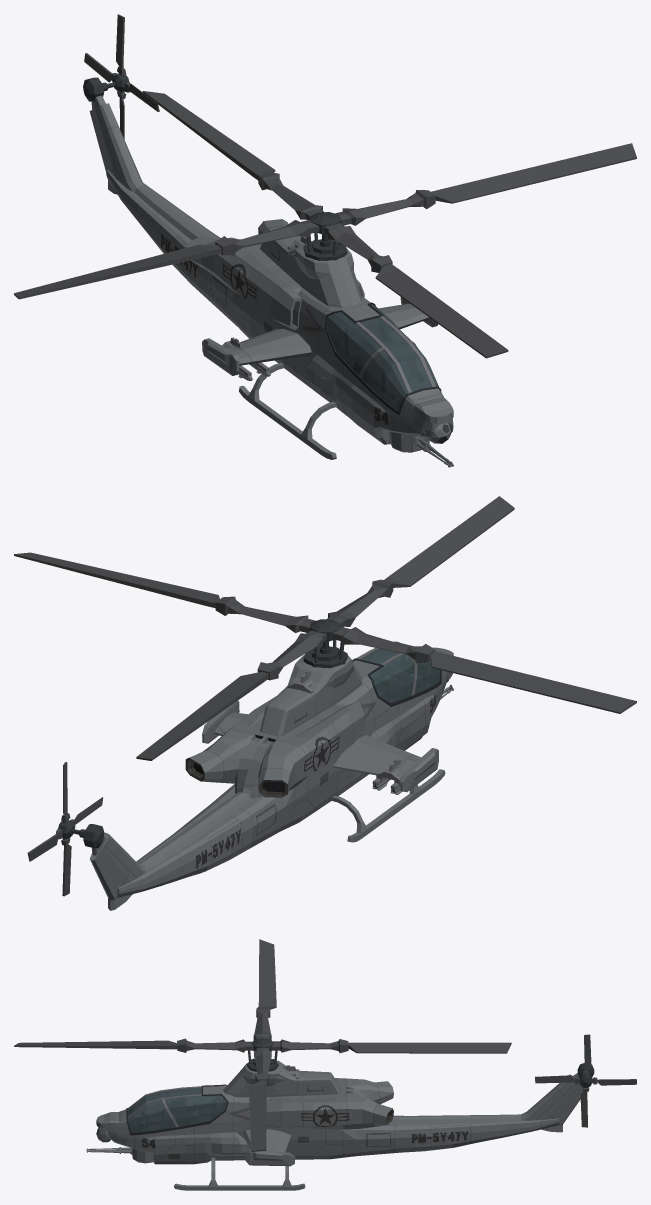
File: attack-helicopter.glb
3 renders of one model, top to bottom at view 1: azimuth 30°, elevation 25°; view 2: azimuth 150°, elevation 25°; view 3: azimuth 270°, elevation 25°, orthographic. The views are drawn at different scales.
Parts seen in each view (by area): view 1: SM_Veh_Helicopter_Attack_01, SM_Veh_Helicopter_Attack_01_Blades_Main, SM_Veh_Helicopter_Attack_01_Glass, SM_Veh_Helicopter_Attack_01_Blades_Back; view 2: SM_Veh_Helicopter_Attack_01, SM_Veh_Helicopter_Attack_01_Blades_Main, SM_Veh_Helicopter_Attack_01_Glass, SM_Veh_Helicopter_Attack_01_Blades_Back, SM_Veh_Heli_Attach_Rocket_Pod_01; view 3: SM_Veh_Helicopter_Attack_01, SM_Veh_Helicopter_Attack_01_Blades_Main, SM_Veh_Helicopter_Attack_01_Glass, SM_Veh_Helicopter_Attack_01_Blades_Back.
Boxes of the visible parts, <box> form: SM_Veh_Helicopter_Attack_01: <box>83,74,453,459</box>; SM_Veh_Helicopter_Attack_01_Blades_Main: <box>14,91,636,358</box>; SM_Veh_Helicopter_Attack_01_Glass: <box>327,304,438,410</box>; SM_Veh_Helicopter_Attack_01_Blades_Back: <box>84,14,159,139</box>; SM_Veh_Helicopter_Attack_01: <box>58,641,453,910</box>; SM_Veh_Helicopter_Attack_01_Blades_Main: <box>14,496,636,760</box>; SM_Veh_Helicopter_Attack_01_Glass: <box>356,642,440,702</box>; SM_Veh_Helicopter_Attack_01_Blades_Back: <box>27,762,103,896</box>; SM_Veh_Heli_Attach_Rocket_Pod_01: <box>372,758,402,794</box>; SM_Veh_Helicopter_Attack_01: <box>96,1060,594,1190</box>; SM_Veh_Helicopter_Attack_01_Blades_Main: <box>14,939,511,1151</box>; SM_Veh_Helicopter_Attack_01_Glass: <box>127,1087,227,1132</box>; SM_Veh_Helicopter_Attack_01_Blades_Back: <box>535,1034,636,1127</box>.
Bounding box in the file's own units: 13.63 × 4.42 × 17.06.
Materials: 2 (1 with a texture image).
